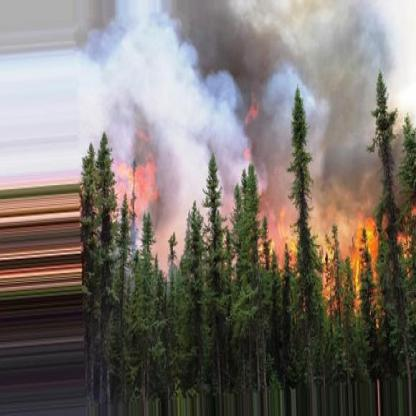fire: (318, 208, 380, 316), (256, 199, 302, 275), (110, 164, 157, 230)
smoke: (77, 0, 400, 195)
